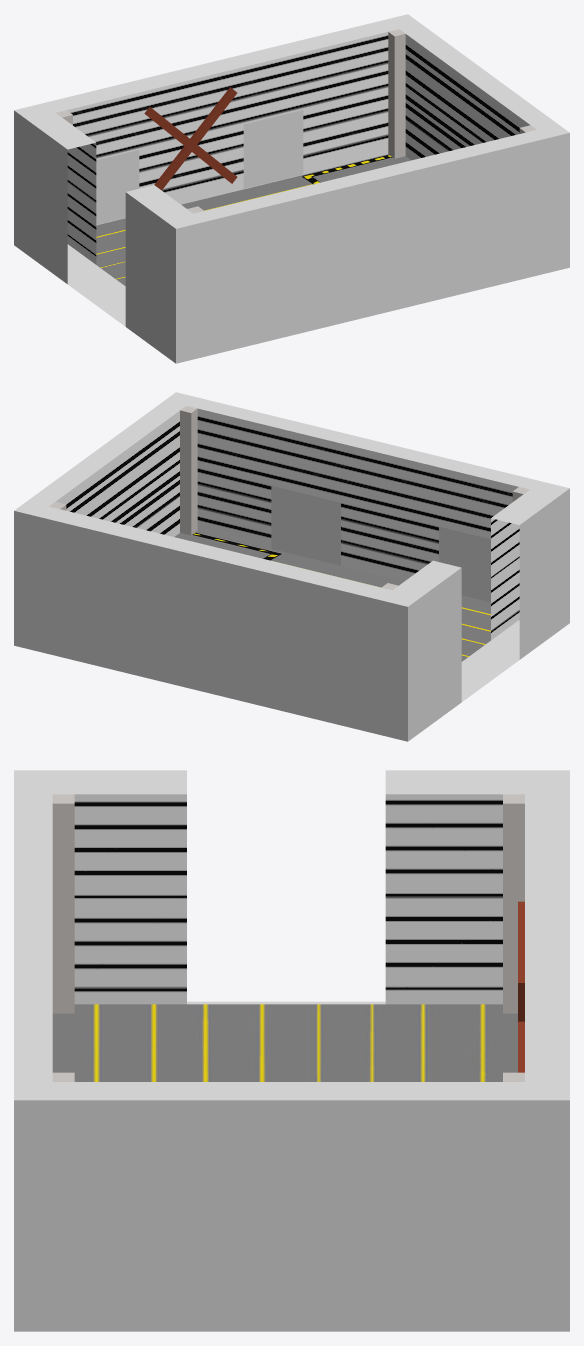
The model's file is Stage3.fbx.
3 views of the same model, one above another, from view 1: azimuth 30°, elevation 25°; view 2: azimuth 150°, elevation 25°; view 3: azimuth 270°, elevation 25° (orthographic). The views are drawn at different scales.
Visible parts, largest first — view 1: polySurface1; view 2: polySurface1; view 3: polySurface1.
Part boxes in pixels (<box>): polySurface1: <box>14,14,569,363</box>; polySurface1: <box>14,392,569,741</box>; polySurface1: <box>14,770,569,1331</box>.
Size of the model in its own units: 35.49 by 11.61 by 25.28.
